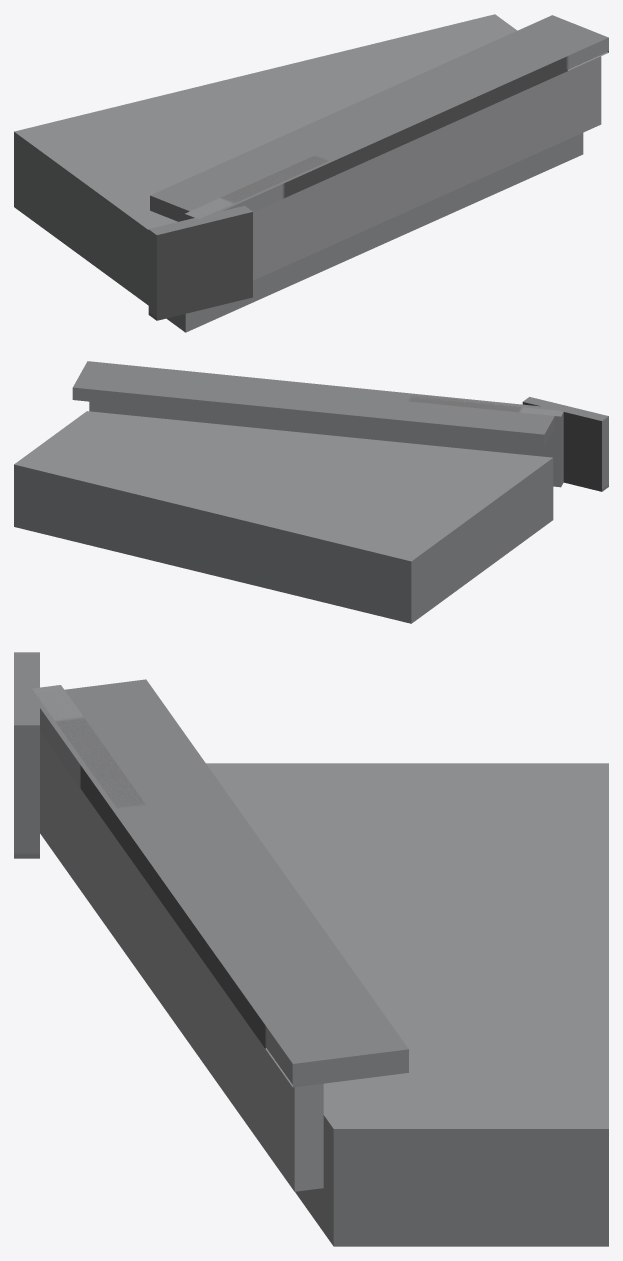
3 renders of one model, top to bottom at view 1: azimuth 30°, elevation 25°; view 2: azimuth 150°, elevation 25°; view 3: azimuth 270°, elevation 25°, orthographic. The views are drawn at different scales.
Bounding box in the file's own units: 1.13 × 0.245 × 0.6875.
